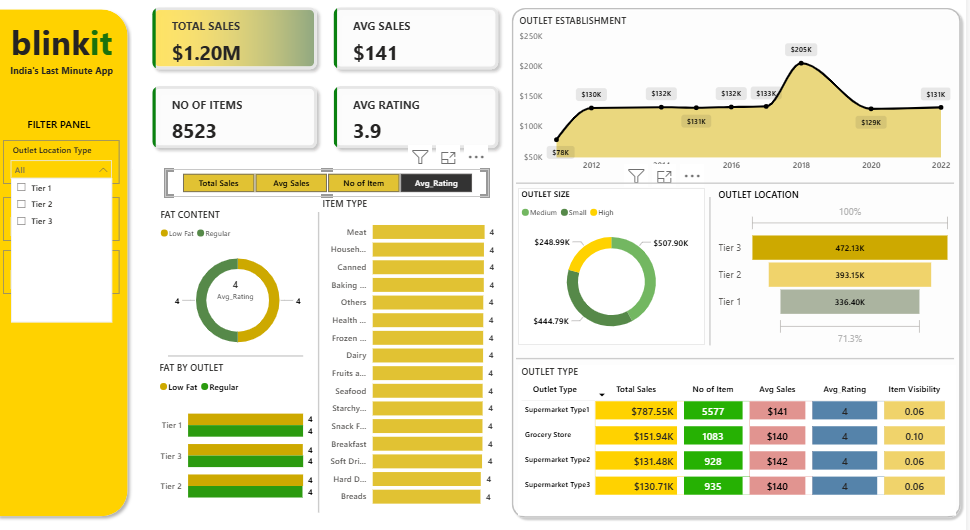

This screenshot's page, from the dashboard's own definition file:
{"tool":"powerbi","page":{"name":"Page 1","canvas":[1400,800],"ordinal":0},"visuals":[{"type":"shape","box":[1.2,22.5,206.2,745],"z":0},{"type":"textbox","box":[14.3,40,180,80],"z":1000},{"type":"textbox","box":[14.3,105.7,180,48.6],"z":2000},{"type":"cardVisual","fields":{"Data":["BlinkIT Grocery Data.Total Sales","BlinkIT Grocery Data.Avg Sales","BlinkIT Grocery Data.No of Item","BlinkIT Grocery Data.Avg_Rating"]},"box":[205,0,554.3,261.4],"z":3000},{"type":"shape","box":[742.5,22.5,657.5,745],"z":4000},{"type":"donutChart","title":"FAT CONTENT","fields":{"Y":["BlinkIT Grocery Data.No of Item"],"Category":["BlinkIT Grocery Data.Item Fat Content"]},"box":[240.9,316.5,231.5,220.5],"z":5000},{"type":"slicer","fields":{"Values":["Metrics.Metrics"]},"box":[252.9,261.4,464.3,40],"z":6000},{"type":"cardVisual","fields":{"Data":["BlinkIT Grocery Data.No of Item"]},"box":[295,400,116.2,68.8],"z":7000},{"type":"clusteredBarChart","title":" FAT BY OUTLET","fields":{"Y":["BlinkIT Grocery Data.No of Item"],"Category":["BlinkIT Grocery Data.Outlet Location Type"],"Series":["BlinkIT Grocery Data.Item Fat Content"]},"box":[238.8,536.2,230,220],"z":8000},{"type":"shape","box":[256.2,518.8,193.8,20],"z":9000},{"type":"shape","box":[458.8,322.5,27.5,431.2],"z":10000},{"type":"barChart","title":"ITEM TYPE","fields":{"Y":["BlinkIT Grocery Data.No of Item"],"Category":["BlinkIT Grocery Data.Item Type"]},"box":[472.5,301.2,256.2,455],"z":11000},{"type":"lineChart","title":"OUTLET ESTABLISHMENT","fields":{"Category":["BlinkIT Grocery Data.Outlet Establishment Year"],"Y":["BlinkIT Grocery Data.Total Sales"]},"box":[755.9,39.4,628.3,234.6],"z":12000},{"type":"donutChart","title":"OUTLET SIZE","fields":{"Y":["BlinkIT Grocery Data.Total Sales"],"Category":["BlinkIT Grocery Data.Outlet Size"]},"box":[759.1,288.2,267.7,225.2],"z":13000},{"type":"shape","box":[755.9,263,628.3,37.8],"z":14000},{"type":"shape","box":[1026.8,300.8,14.2,212.6],"z":15000},{"type":"funnel","title":"OUTLET LOCATION","fields":{"Y":["Sum(BlinkIT Grocery Data.Sales)"],"Category":["BlinkIT Grocery Data.Outlet Location Type"]},"box":[1040.9,288.2,343.3,231.5],"z":16000},{"type":"shape","box":[755.9,522.8,628.3,18.9],"z":17000},{"type":"pivotTable","title":"OUTLET TYPE","fields":{"Rows":["BlinkIT Grocery Data.Outlet Type"],"Values":["BlinkIT Grocery Data.Total Sales","BlinkIT Grocery Data.No of Item","BlinkIT Grocery Data.Avg Sales","BlinkIT Grocery Data.Avg_Rating","Avg(BlinkIT Grocery Data.Item Visibility)"]},"box":[759.1,541.7,628.3,215.7],"z":18000},{"type":"slicer","fields":{"Values":["BlinkIT Grocery Data.Outlet Location Type"]},"box":[20.5,218.9,166.9,63],"z":19000},{"type":"slicer","fields":{"Values":["BlinkIT Grocery Data.Outlet Size"]},"box":[20.5,300.8,166.9,63],"z":20000},{"type":"slicer","fields":{"Values":["BlinkIT Grocery Data.Item Type"]},"box":[20.5,376.4,166.9,63],"z":21000},{"type":"textbox","box":[50.4,181.1,107.1,37.8],"z":22000}]}

Visuals, with their boxes on the page's 1400x800 design canvas (x1, y1, x2, y2). These are canvas units, not pixel positions in the 970x530 screenshot, which may show the page scaled, cropped or inside an application window:
shape: (1,22,207,768)
textbox: (14,40,194,120)
textbox: (14,106,194,154)
cardVisual - BlinkIT Grocery Data.Total Sales x BlinkIT Grocery Data.Avg Sales: (205,0,759,261)
shape: (742,22,1400,768)
"FAT CONTENT" donutChart: (241,316,472,537)
slicer - Metrics.Metrics: (253,261,717,301)
cardVisual - BlinkIT Grocery Data.No of Item: (295,400,411,469)
" FAT BY OUTLET" clusteredBarChart: (239,536,469,756)
shape: (256,519,450,539)
shape: (459,322,486,754)
"ITEM TYPE" barChart: (472,301,729,756)
"OUTLET ESTABLISHMENT" lineChart: (756,39,1384,274)
"OUTLET SIZE" donutChart: (759,288,1027,513)
shape: (756,263,1384,301)
shape: (1027,301,1041,513)
"OUTLET LOCATION" funnel: (1041,288,1384,520)
shape: (756,523,1384,542)
"OUTLET TYPE" pivotTable: (759,542,1387,757)
slicer - BlinkIT Grocery Data.Outlet Location Type: (20,219,187,282)
slicer - BlinkIT Grocery Data.Outlet Size: (20,301,187,364)
slicer - BlinkIT Grocery Data.Item Type: (20,376,187,439)
textbox: (50,181,158,219)
